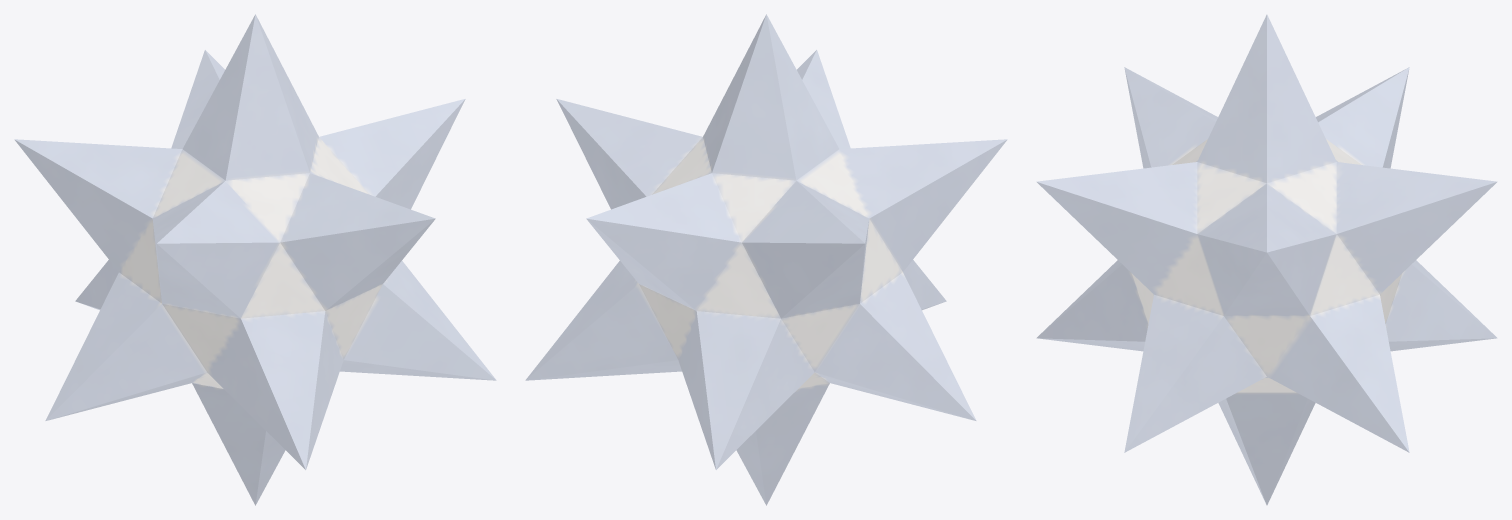
The model's file is star-anchor.glb.
3 renders of one model, left to right at view 1: azimuth 30°, elevation 25°; view 2: azimuth 150°, elevation 25°; view 3: azimuth 270°, elevation 25°, orthographic.
Visible parts, largest first — view 1: Star_Anchor; view 2: Star_Anchor; view 3: Star_Anchor.
Part boxes in pixels (left/top/right/bottom): Star_Anchor: left=14, top=14, right=496, bottom=505; Star_Anchor: left=525, top=14, right=1007, bottom=505; Star_Anchor: left=1036, top=14, right=1497, bottom=505.
Size of the model in its own units: 3.13 by 3.5 by 2.98.
1 material, 1 textured.
